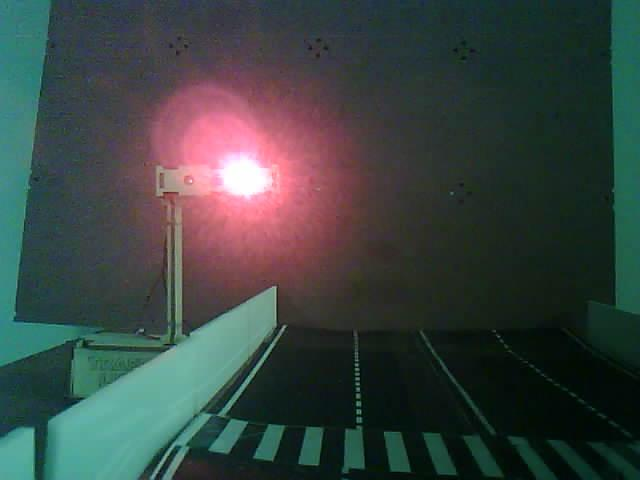crosswalk: (136, 371, 640, 480)
red: (128, 117, 313, 218)
